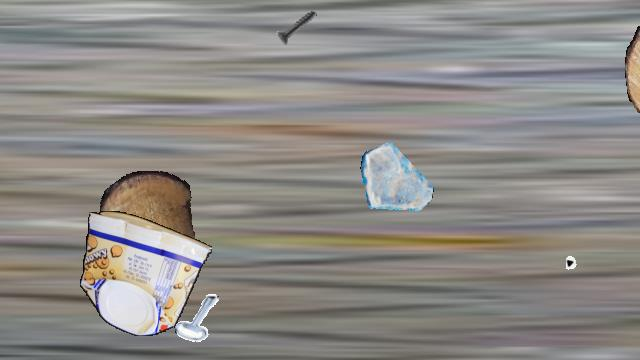glass: (360, 139, 434, 213)
metal: (566, 238, 628, 300), (271, 1, 323, 53), (174, 293, 226, 345)
plastic: (80, 211, 212, 335)
wood: (100, 171, 194, 275), (625, 1, 640, 129)
